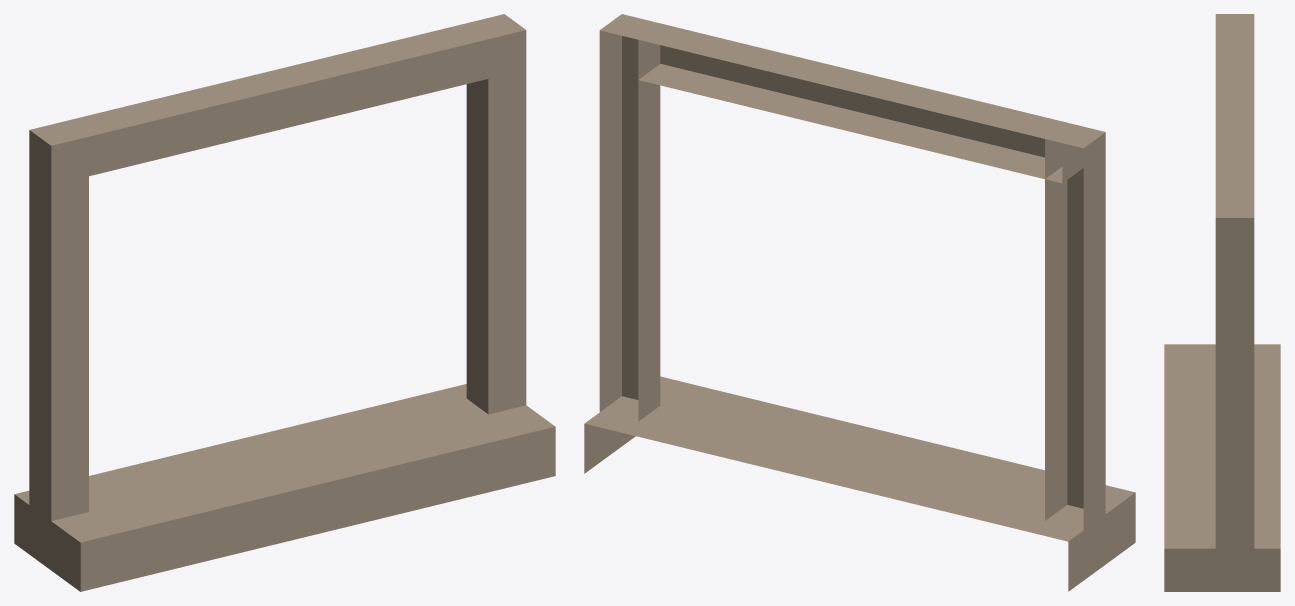
File: windowsill.fbx
3 renders of one model, left to right at view 1: azimuth 30°, elevation 25°; view 2: azimuth 150°, elevation 25°; view 3: azimuth 270°, elevation 25°, orthographic. The views are drawn at different scales.
Parts seen in each view (by area): view 1: windowsill01, windowsill04, windowsill02, windowsill03; view 2: windowsill01, windowsill04, windowsill03, windowsill02; view 3: windowsill01, windowsill03, windowsill04, windowsill02.
Part boxes in pixels (x1=…): windowsill01: x1=14, y1=384, x2=555, y2=591; windowsill04: x1=51, y1=23, x2=488, y2=178; windowsill02: x1=29, y1=121, x2=88, y2=520; windowsill03: x1=466, y1=14, x2=526, y2=414; windowsill01: x1=584, y1=376, x2=1135, y2=591; windowsill04: x1=638, y1=23, x2=1083, y2=183; windowsill03: x1=599, y1=14, x2=660, y2=421; windowsill02: x1=1045, y1=122, x2=1105, y2=529; windowsill01: x1=1164, y1=344, x2=1280, y2=591; windowsill03: x1=1215, y1=202, x2=1254, y2=548; windowsill04: x1=1215, y1=23, x2=1254, y2=201; windowsill02: x1=1215, y1=14, x2=1254, y2=30.
Size of the model in its own units: 4.15 by 3.54 by 1.
